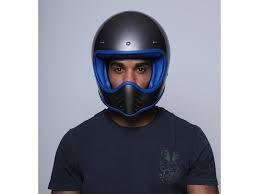helmet: (91, 10, 171, 120)
